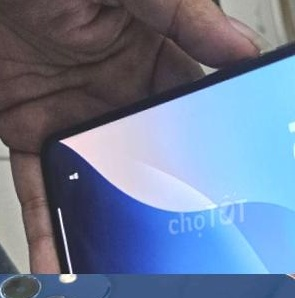scratch: (118, 274, 295, 298), (0, 274, 129, 298), (1, 274, 93, 298)
